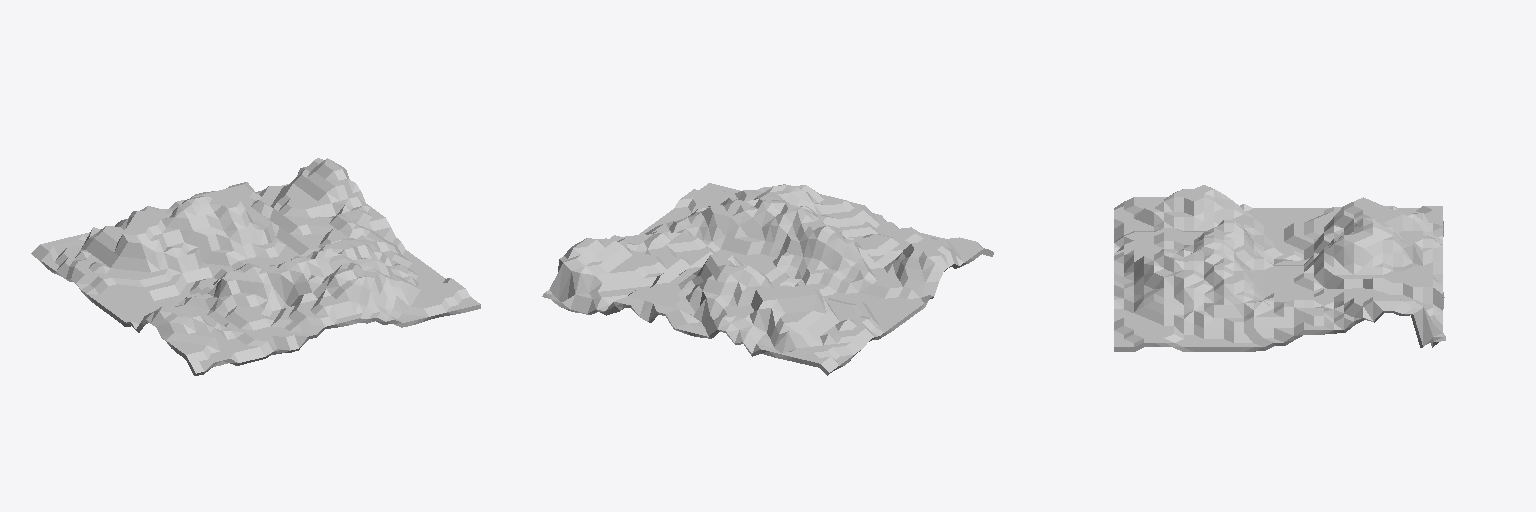
File: ground.obj
The picture shows the model from 3 angles: view 1: azimuth 30°, elevation 25°; view 2: azimuth 150°, elevation 25°; view 3: azimuth 270°, elevation 25°; orthographic projection.
Visible parts, largest first — view 1: Plane; view 2: Plane; view 3: Plane.
Boxes of the visible parts, x1,y1,x2,y2 form: Plane: [31, 158, 480, 375]; Plane: [542, 183, 993, 375]; Plane: [1114, 185, 1445, 351].
Bounding box in the file's own units: 16.26 × 2.88 × 16.25.